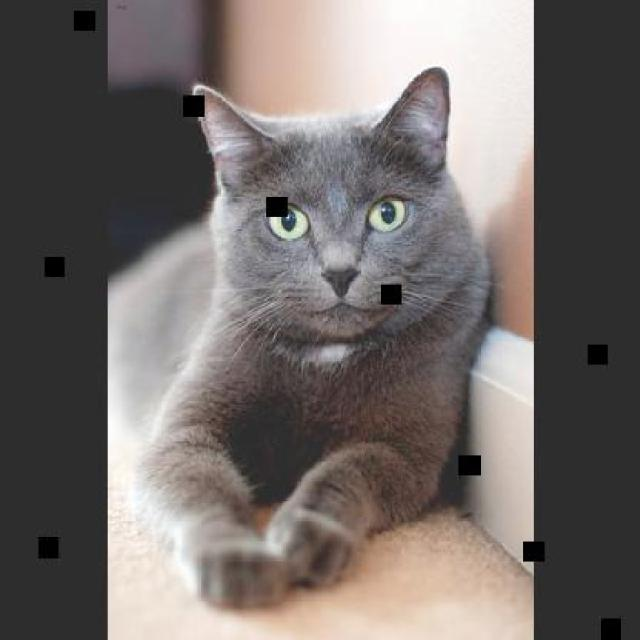unauthorized: (108, 64, 497, 610)
